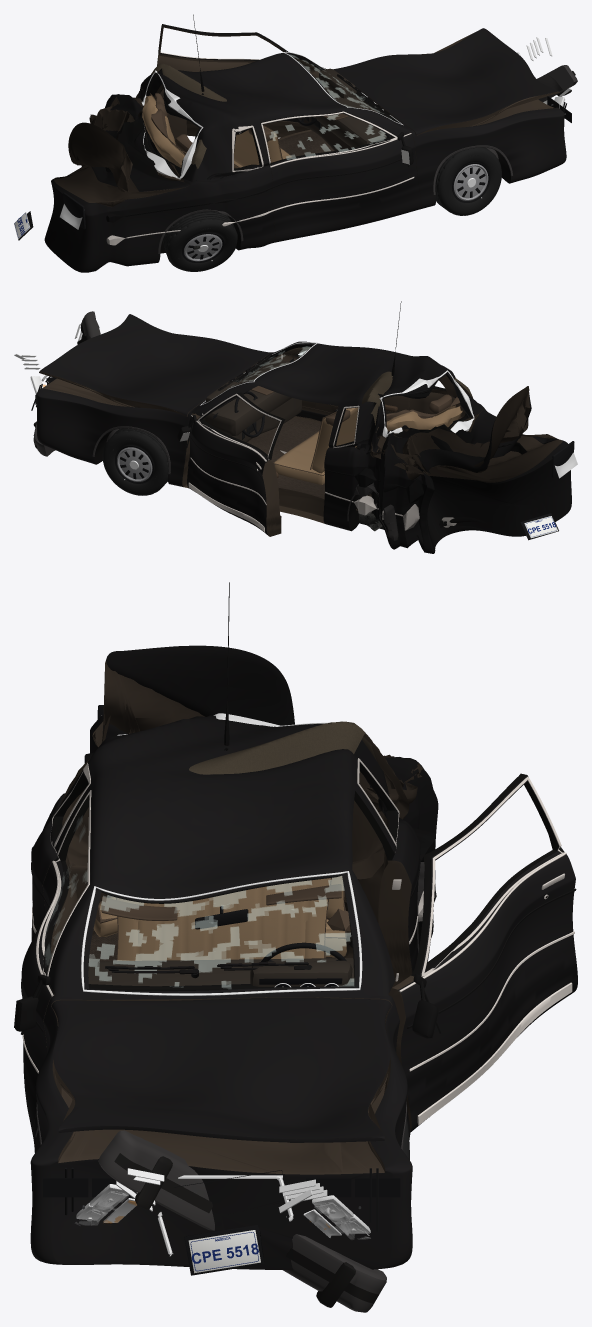
File: coupe84_rear_corner_d3.glb
3 renders of one model, top to bottom at view 1: azimuth 30°, elevation 25°; view 2: azimuth 150°, elevation 25°; view 3: azimuth 270°, elevation 25°, orthographic. The views are drawn at different scales.
Parts seen in each view (by area): view 1: Body, Hood, Door_FR, Trunk, Interior, Wheel_FR_mesh, Wheel_RR_mesh, Door_FL, Trim, Glass, Trim_FR, Ends (+2 smaller); view 2: Body, Hood, Interior, Door_FL, Trunk, Wheel_FL_mesh, Trim, Ends, Glass, Trim_FL, Door_FR, Bumper_F (+2 smaller); view 3: Body, Hood, Door_FL, Interior, Trunk, Ends, Glass, Bumper_F, Trim_FL, Door_FR, Trim, Trim_FR (+1 smaller).
Boxes of the visible parts, bbox=[...] form: Body: bbox=[44, 52, 566, 272]; Hood: bbox=[333, 28, 559, 135]; Door_FR: bbox=[260, 111, 420, 242]; Trunk: bbox=[68, 94, 189, 193]; Interior: bbox=[142, 68, 390, 168]; Wheel_FR_mesh: bbox=[435, 147, 501, 215]; Wheel_RR_mesh: bbox=[163, 211, 237, 271]; Door_FL: bbox=[157, 24, 319, 137]; Trim: bbox=[106, 14, 512, 253]; Glass: bbox=[141, 51, 403, 179]; Trim_FR: bbox=[261, 111, 414, 211]; Ends: bbox=[14, 37, 571, 240]; Body: bbox=[36, 341, 571, 553]; Hood: bbox=[39, 314, 271, 416]; Interior: bbox=[203, 358, 462, 484]; Door_FL: bbox=[187, 392, 285, 536]; Trunk: bbox=[377, 386, 531, 473]; Wheel_FL_mesh: bbox=[102, 428, 168, 495]; Trim: bbox=[92, 301, 423, 540]; Ends: bbox=[14, 323, 577, 540]; Glass: bbox=[200, 342, 474, 446]; Trim_FL: bbox=[177, 393, 281, 532]; Door_FR: bbox=[272, 348, 409, 421]; Bumper_F: bbox=[33, 311, 100, 456]; Body: bbox=[30, 715, 438, 1270]; Hood: bbox=[51, 997, 391, 1142]; Door_FL: bbox=[388, 773, 577, 1132]; Interior: bbox=[88, 876, 354, 987]; Trunk: bbox=[101, 645, 422, 787]; Ends: bbox=[43, 705, 400, 1275]; Glass: bbox=[55, 713, 398, 995]; Bumper_F: bbox=[98, 1130, 386, 1312]; Trim_FL: bbox=[395, 776, 576, 1125]; Door_FR: bbox=[21, 789, 92, 1136]; Trim: bbox=[31, 582, 436, 1150]; Trim_FR: bbox=[14, 790, 91, 1073].
Bounding box in the file's own units: 5.48 × 2.17 × 2.53.
Materials: 33 (5 with a texture image).
